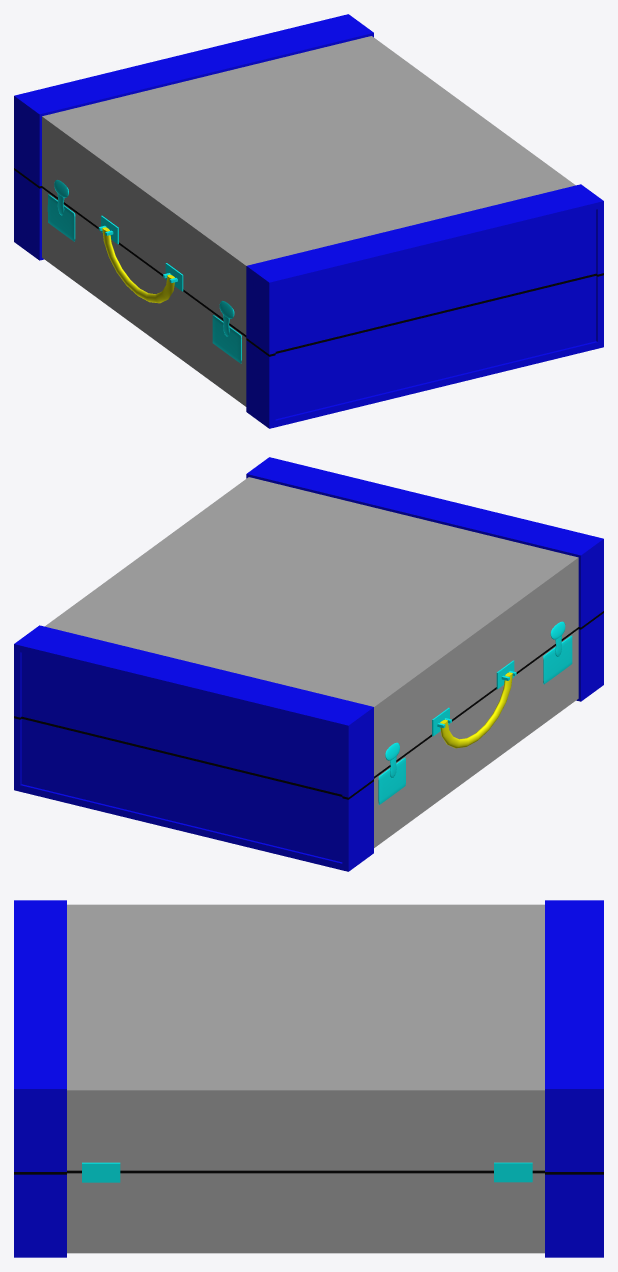
The model's file is suitcase.fbx.
3 views of the same model, one above another, from view 1: azimuth 30°, elevation 25°; view 2: azimuth 150°, elevation 25°; view 3: azimuth 270°, elevation 25° (orthographic). The views are drawn at different scales.
Visible parts, largest first — view 1: pTorus2; view 2: pTorus2; view 3: pTorus2.
Boxes of the visible parts, box(x1,y1,x2,y2) form: pTorus2: box(14, 14, 603, 428); pTorus2: box(14, 457, 603, 871); pTorus2: box(14, 900, 603, 1257).
Size of the model in its own units: 2.68 by 1.1 by 3.49.
